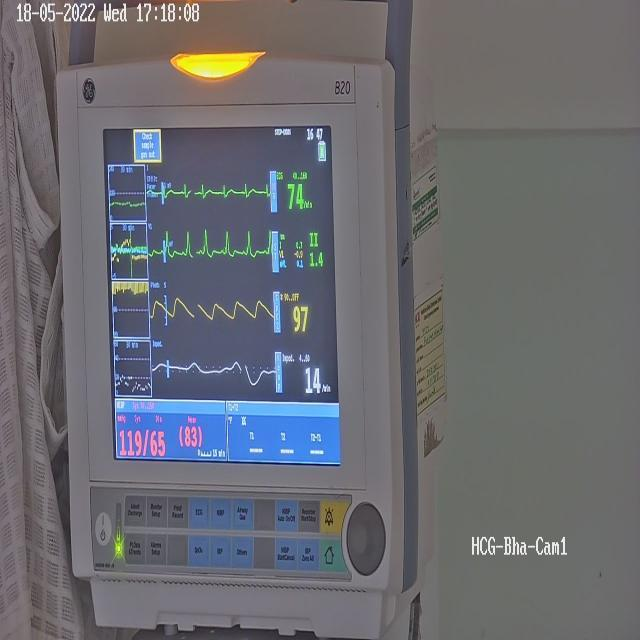Monitor: (56, 49, 418, 632)
